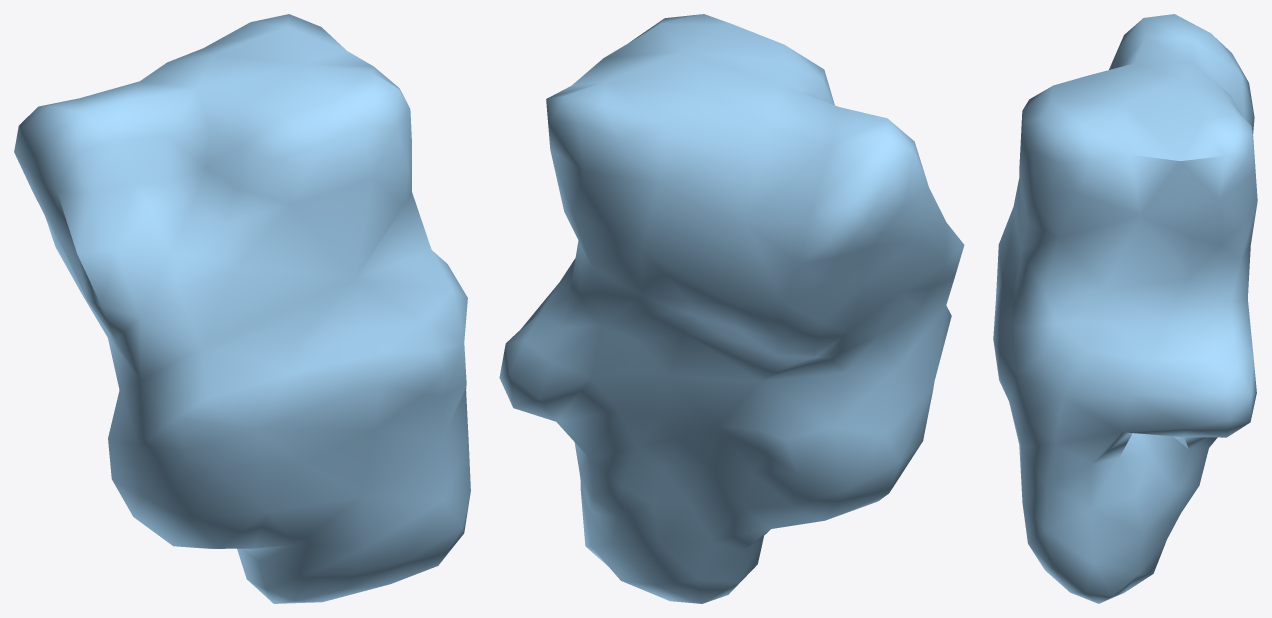
Rendered from spl-505.glb.
The picture shows the model from 3 angles, left to right: view 1: azimuth 30°, elevation 25°; view 2: azimuth 150°, elevation 25°; view 3: azimuth 270°, elevation 25°; orthographic projection. The views are drawn at different scales.
Visible parts, largest first — view 1: spl-505; view 2: spl-505; view 3: spl-505.
Part boxes in pixels (x1=…): spl-505: x1=14, y1=14, x2=470, y2=603; spl-505: x1=499, y1=14, x2=964, y2=603; spl-505: x1=993, y1=14, x2=1257, y2=603.
Bounding box in the file's own units: 8.09 × 11.11 × 5.7.
